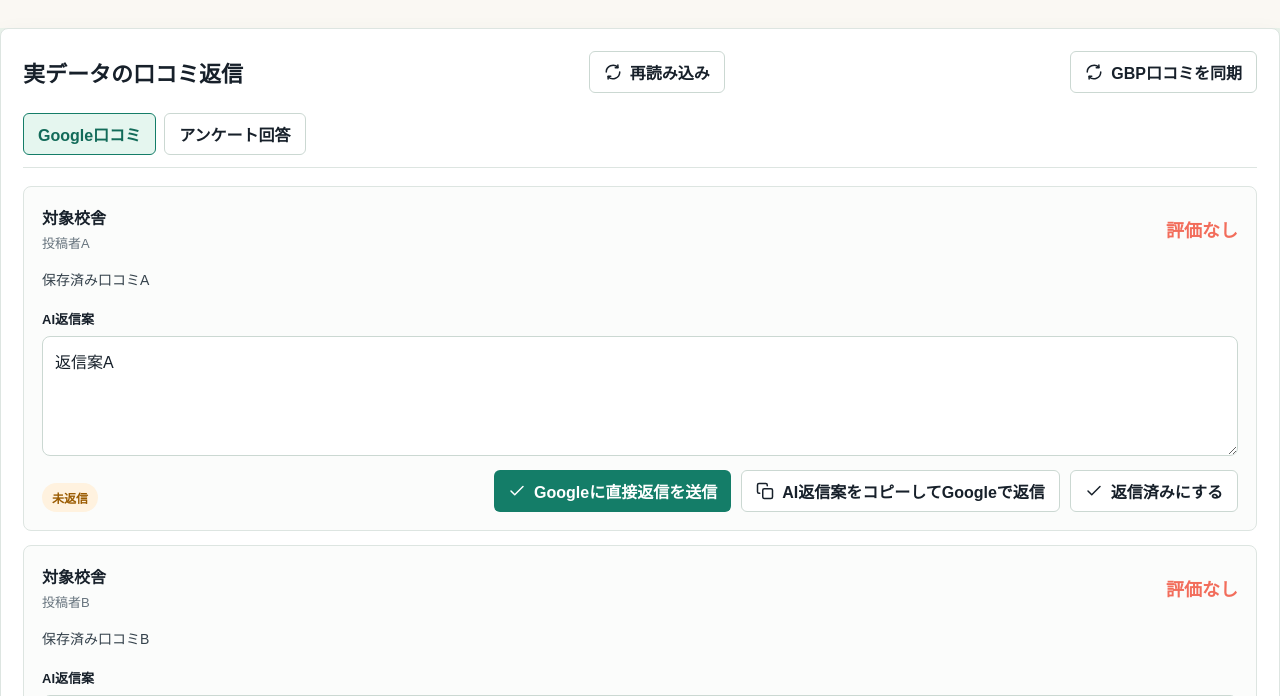
Scenario: real component -> API -> OAuth/Google -> persistence -> list workflow › renders three stored legacy Google cards and keeps survey drafts in their own tab
This screenshot has width=1280, height=696.
Expected: the text "投稿者A" is shown, [42,236,90,251]
Expected: the text "投稿者B" is shown, [42,595,90,610]
Click the tab "アンケート回答" at coordinates (235, 134), box [164,113,306,155]
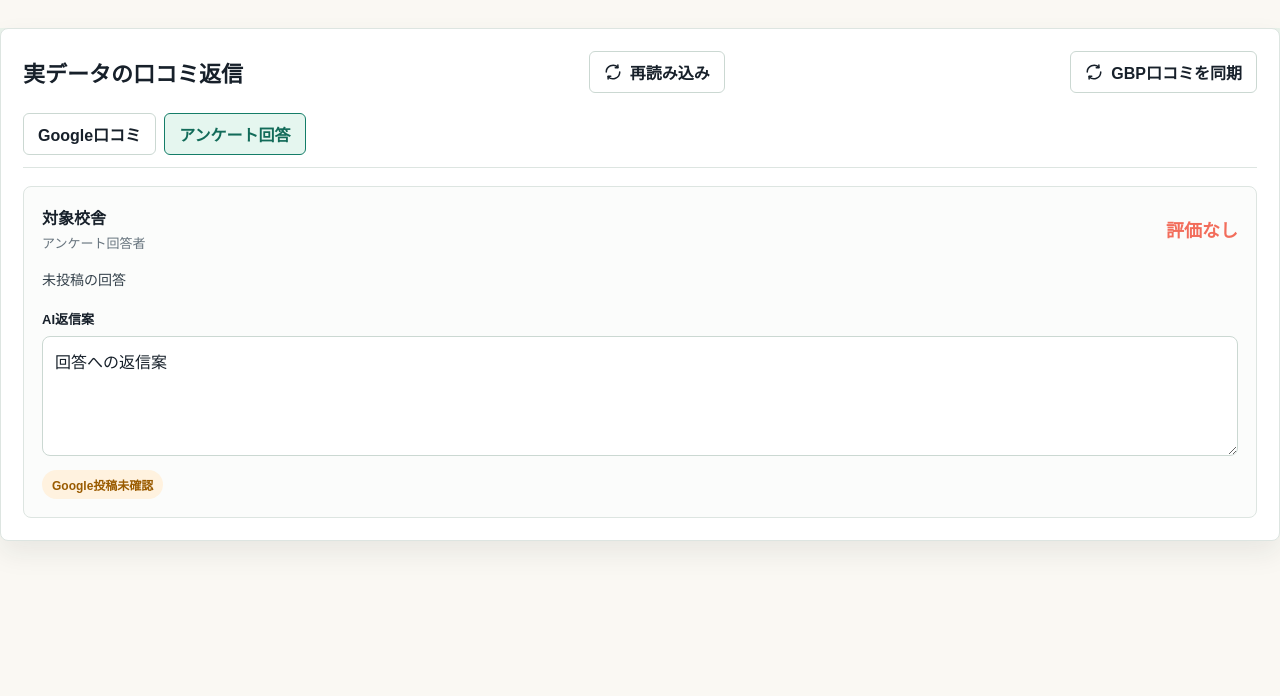
Result: the text "アンケート回答者" is shown at [42,233,146,252]
Result: the text "投稿者A" is gone
Result: the text "Google投稿未確認" is shown at [42,470,163,499]
Click the tab "Google口コミ" at coordinates (90, 134), box [23,113,156,155]
(page scrolled)
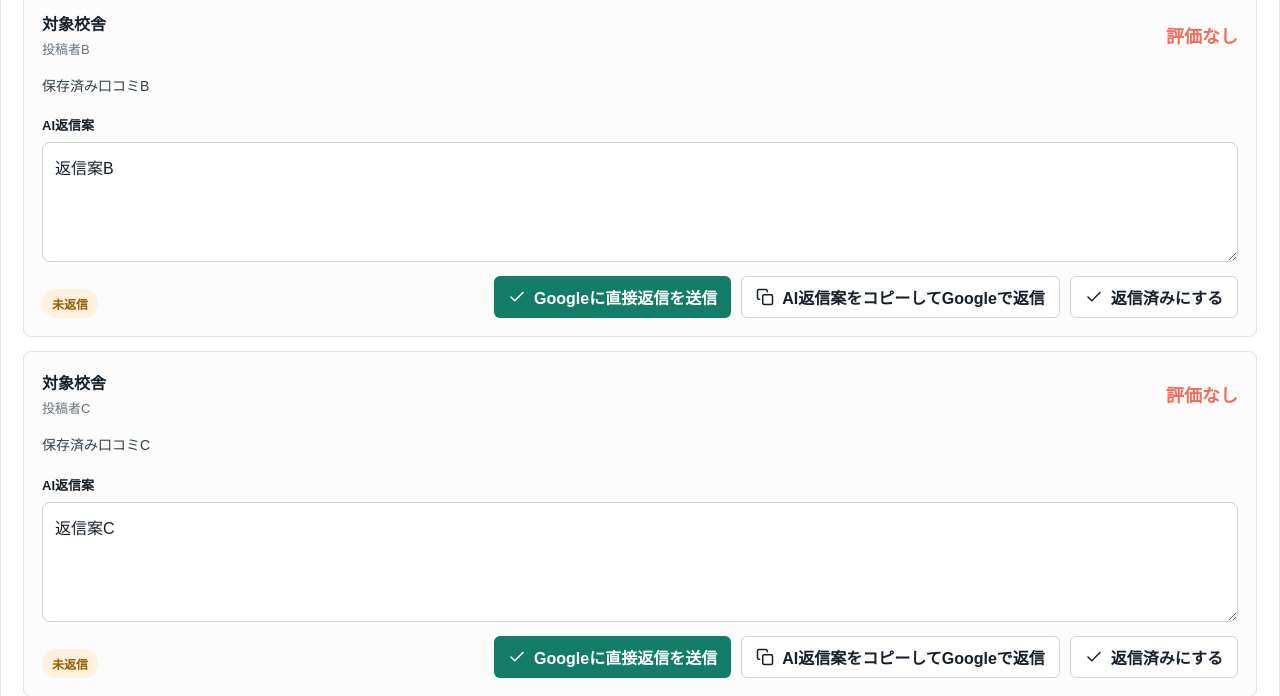
Result: the text "投稿者C" is shown at [42,401,90,416]
Result: the text "アンケート回答者" is gone
